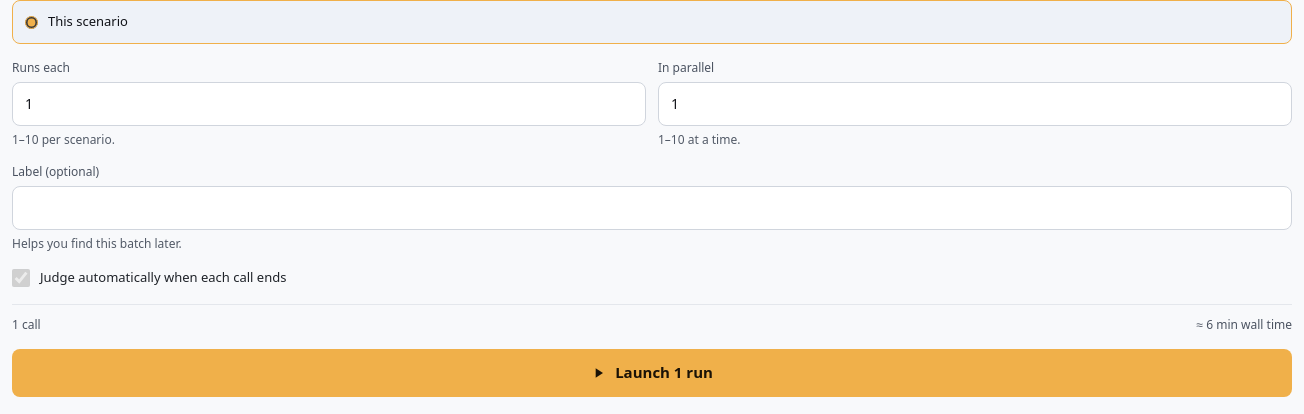
Test: Launch panel › estimates sequential waves when fewer run in parallel
The width and height of the screenshot is (1304, 414).
Replace the text in the field labelled "Runs each" with "4" at (329, 104), box [12, 82, 646, 126]
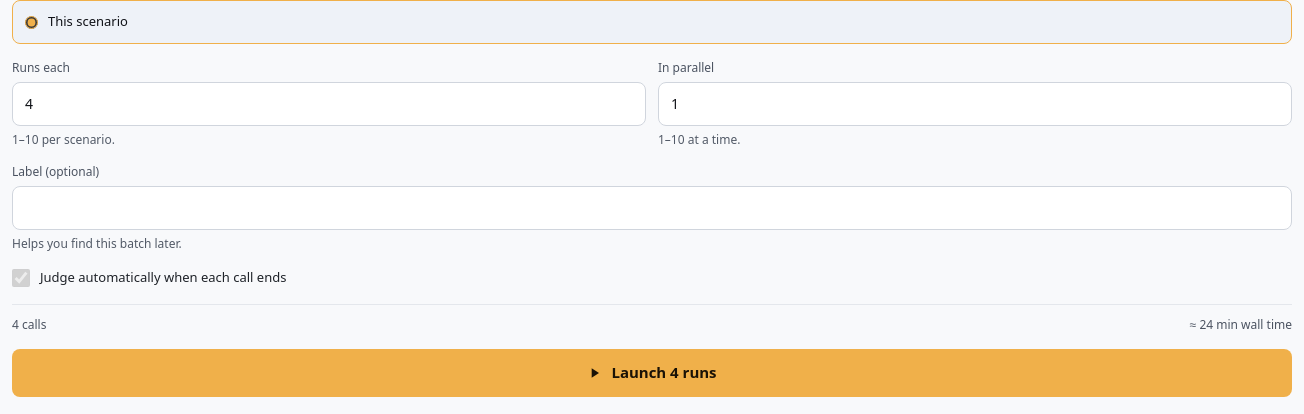
Replace the text in the field labelled "In parallel" with "2" at (975, 104), box [658, 82, 1292, 126]
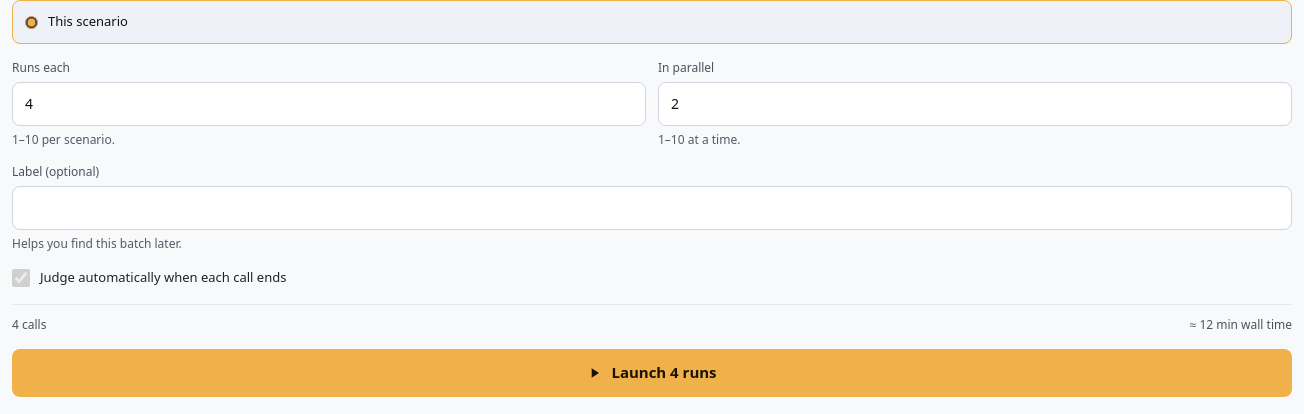
Result: the text "4 calls" is shown at [12, 316, 46, 332]
Result: the text "≈ 12 min wall time" is shown at [1190, 316, 1292, 332]
